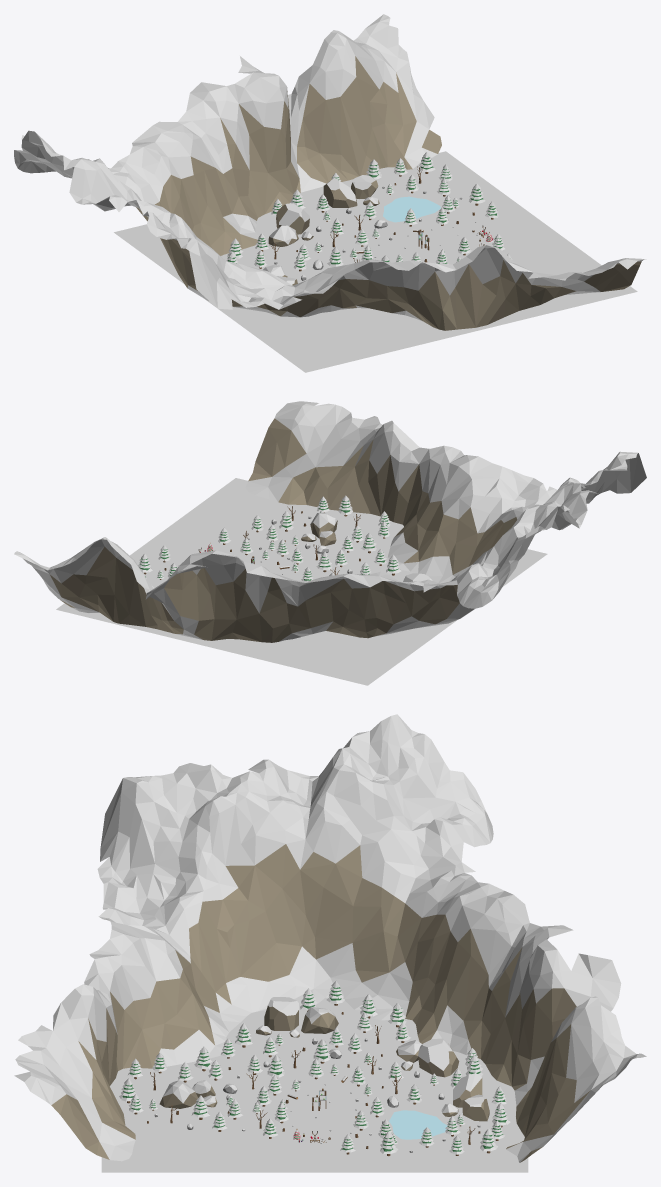
The model's file is angrybirds.glb.
The picture shows the model from 3 angles, top to bottom: view 1: azimuth 30°, elevation 25°; view 2: azimuth 150°, elevation 25°; view 3: azimuth 270°, elevation 25°; orthographic projection. The views are drawn at different scales.
Visible parts, largest first — view 1: Static, Ground; view 2: Static, Ground; view 3: Static, Ground.
Boxes of the visible parts, left/top/right/bottom form: Static: left=14, top=14, right=646, bottom=330; Ground: left=114, top=151, right=637, bottom=372; Static: left=14, top=401, right=646, bottom=642; Ground: left=56, top=478, right=547, bottom=685; Static: left=14, top=714, right=646, bottom=1162; Ground: left=101, top=997, right=528, bottom=1172.
Bounding box in the file's own units: 387 × 140 × 400.
